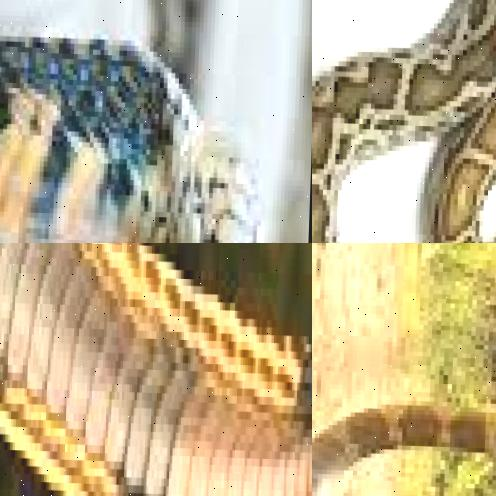5: (0, 243, 312, 496), (0, 0, 312, 243), (312, 345, 496, 496)
snake: (312, 0, 496, 243)
